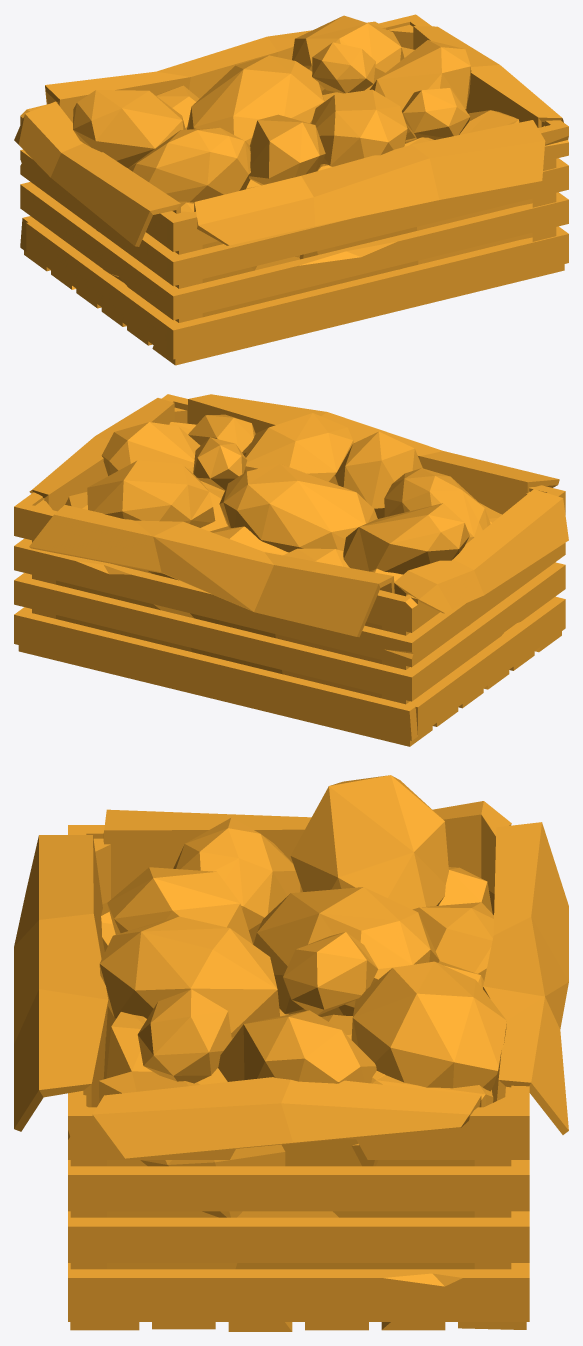
The model's file is SM_Crate_Wood_Medium_Paper_Potatoes.fbx.
The picture shows the model from 3 angles, top to bottom: view 1: azimuth 30°, elevation 25°; view 2: azimuth 150°, elevation 25°; view 3: azimuth 270°, elevation 25°; orthographic projection. The views are drawn at different scales.
Visible parts, largest first — view 1: crate-wood-medium-paper-potatoes-a; view 2: crate-wood-medium-paper-potatoes-a; view 3: crate-wood-medium-paper-potatoes-a.
Boxes of the visible parts, left/top/right/bottom form: crate-wood-medium-paper-potatoes-a: left=14, top=14, right=568, bottom=365; crate-wood-medium-paper-potatoes-a: left=14, top=394, right=568, bottom=746; crate-wood-medium-paper-potatoes-a: left=14, top=775, right=568, bottom=1331.
Bounding box in the file's own units: 0.663 × 0.2865 × 0.4887.
